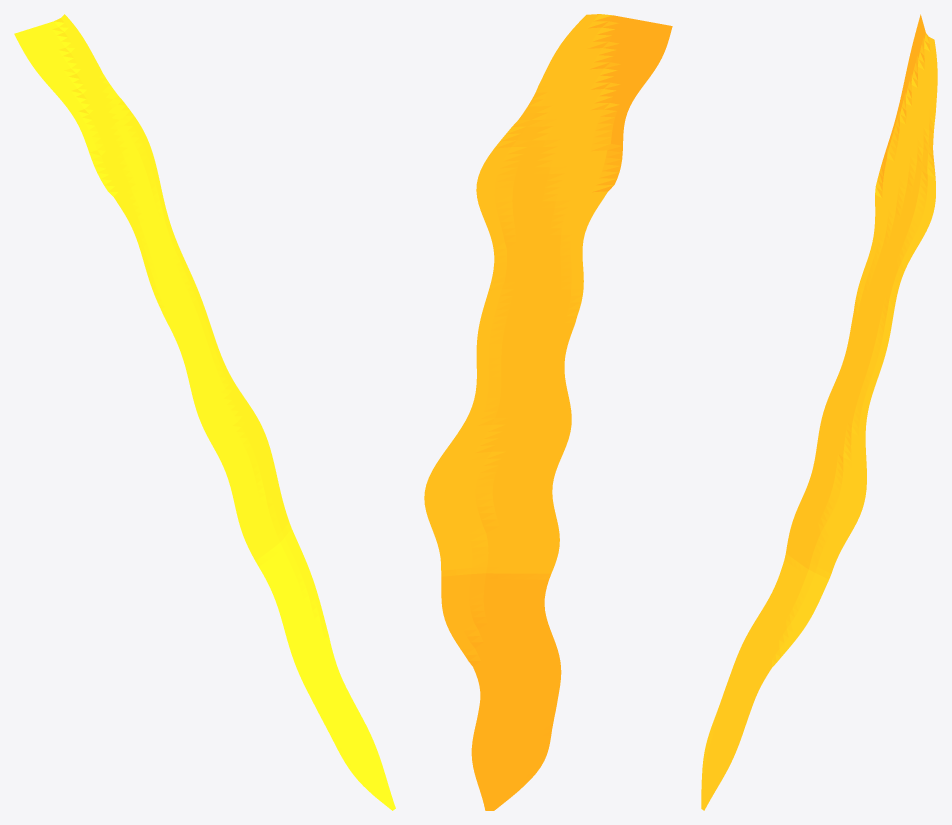
Rendered from BossVolcano_LavaFlow.fbx.
3 views of the same model, side by side, from view 1: azimuth 30°, elevation 25°; view 2: azimuth 150°, elevation 25°; view 3: azimuth 270°, elevation 25° (orthographic). The views are drawn at different scales.
Visible parts, largest first — view 1: BossVolcano_LavaFlow; view 2: BossVolcano_LavaFlow; view 3: BossVolcano_LavaFlow.
Boxes of the visible parts, bbox=[...] form: BossVolcano_LavaFlow: bbox=[14, 14, 395, 810]; BossVolcano_LavaFlow: bbox=[424, 14, 672, 810]; BossVolcano_LavaFlow: bbox=[701, 14, 937, 810].
Bounding box in the file's own units: 5.13 × 14.04 × 4.42.
